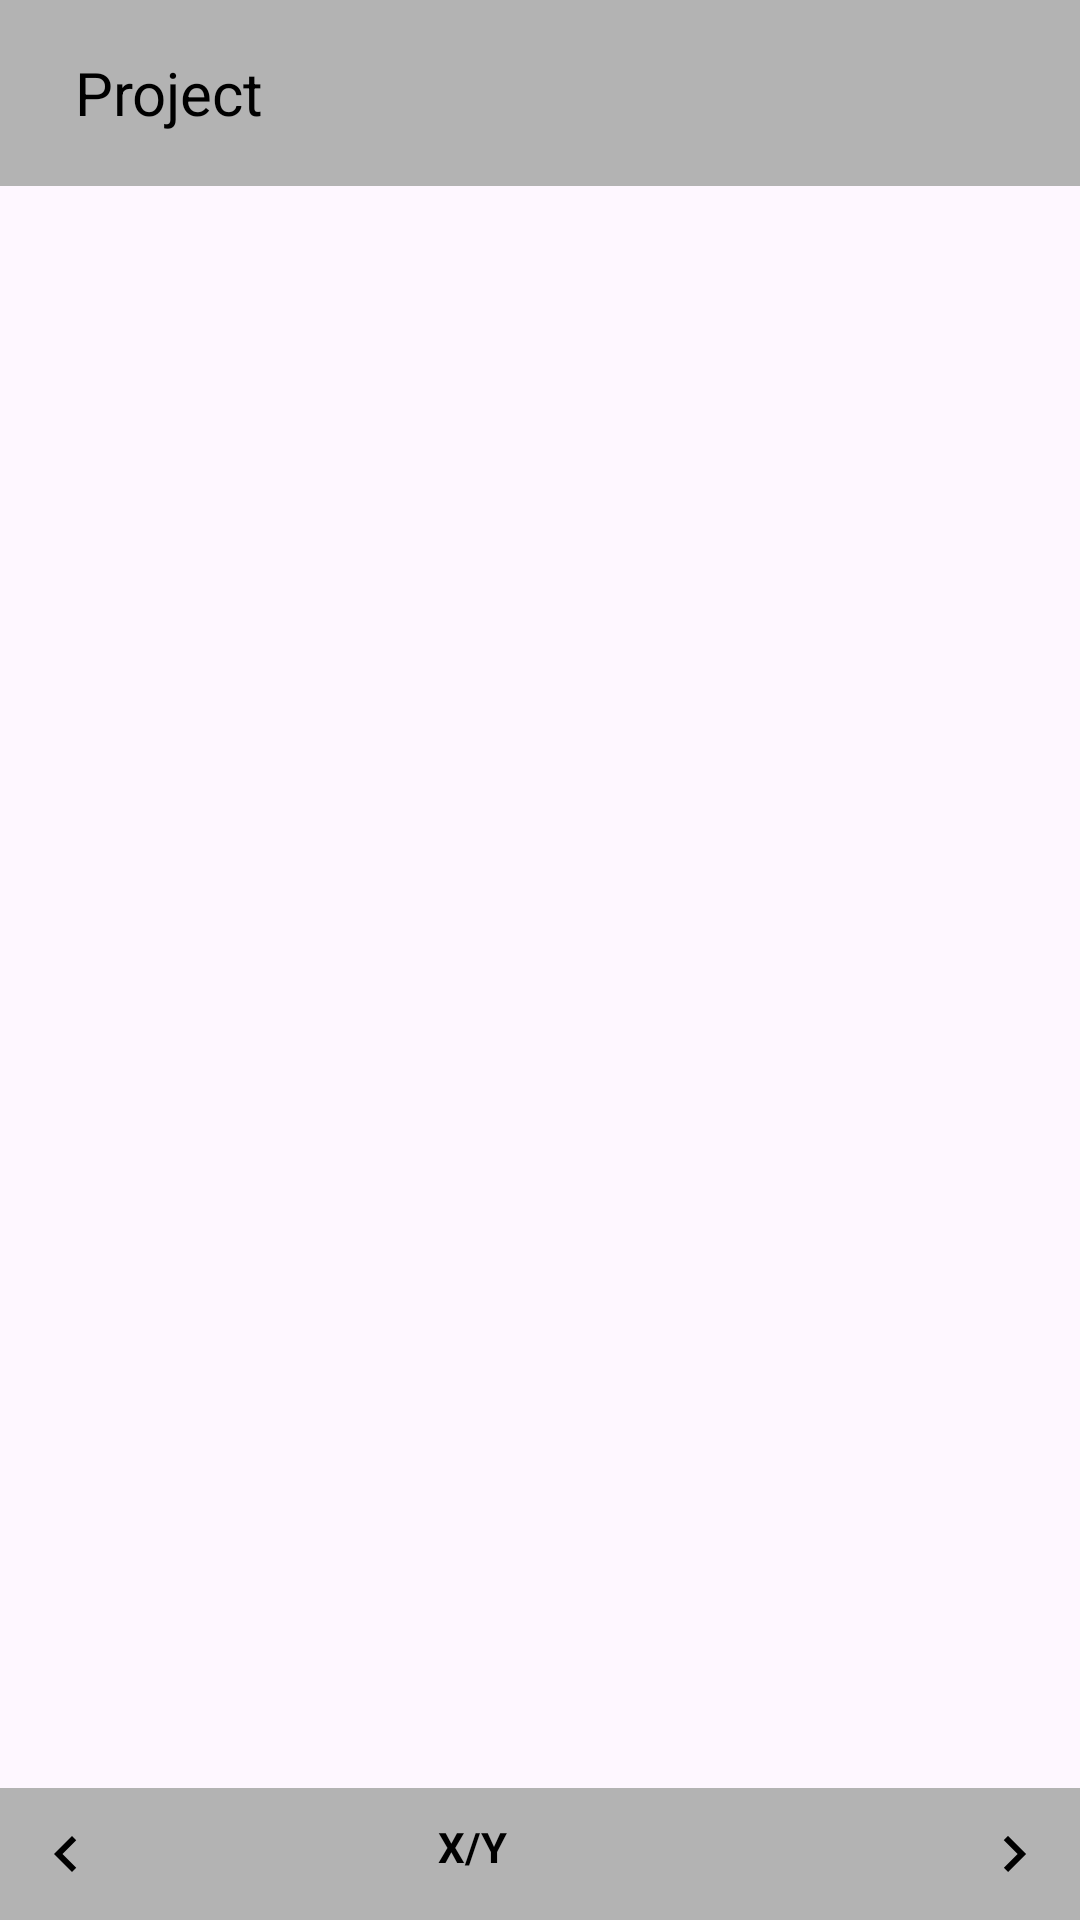

Screen size 1080×1920. Icon name, then its center in pixels as [x,y]:
arrow left: [65,1854]
Next: [1015,1854]
